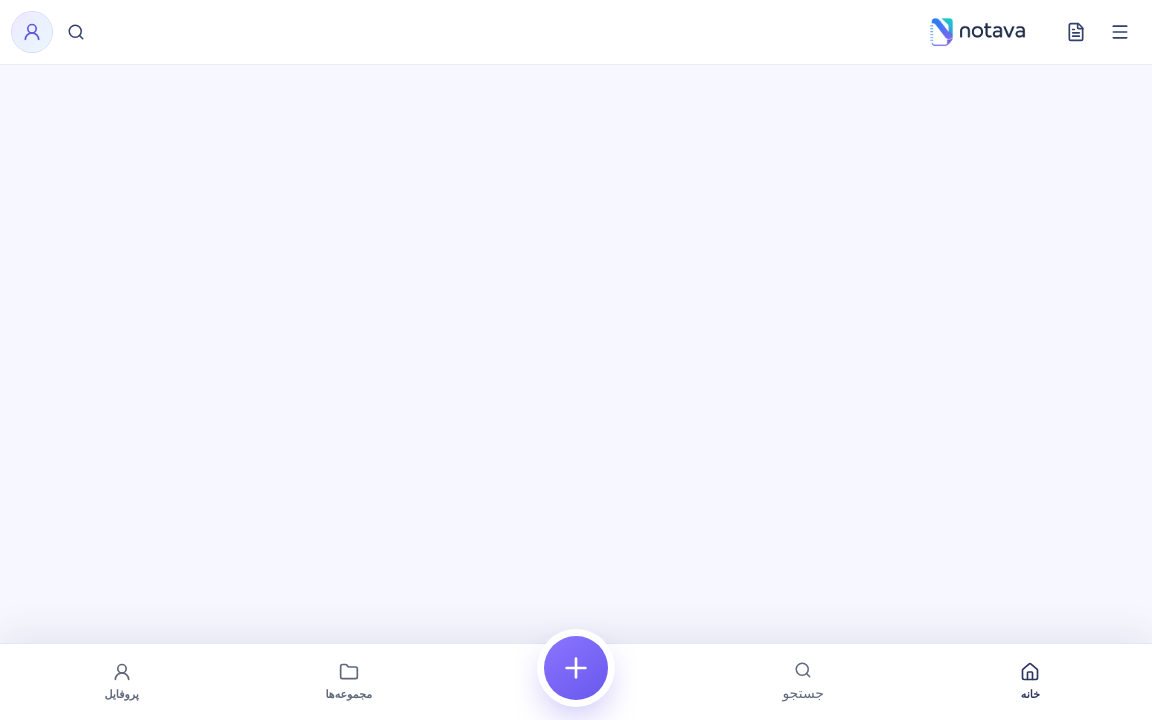
Test: MobileShell notebook workflows › shows a clear mobile action for creating a notebook
Click the button named "باز کردن مجموعه‌ها". click: coordinates (1120, 32)
box: x1=1100 y1=12 x2=1140 y2=52
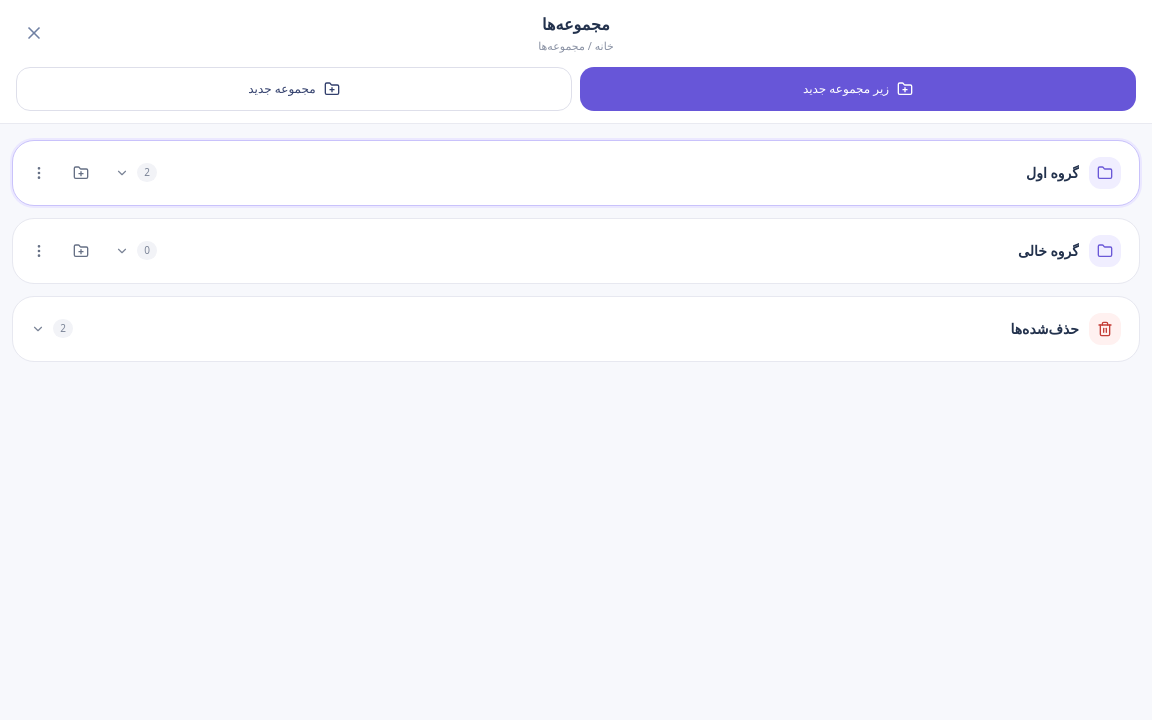
expect the button "زیر مجموعه جدید" is shown: met
Click the button "زیر مجموعه جدید". click: coordinates (858, 88)
box: x1=580 y1=66 x2=1136 y2=110
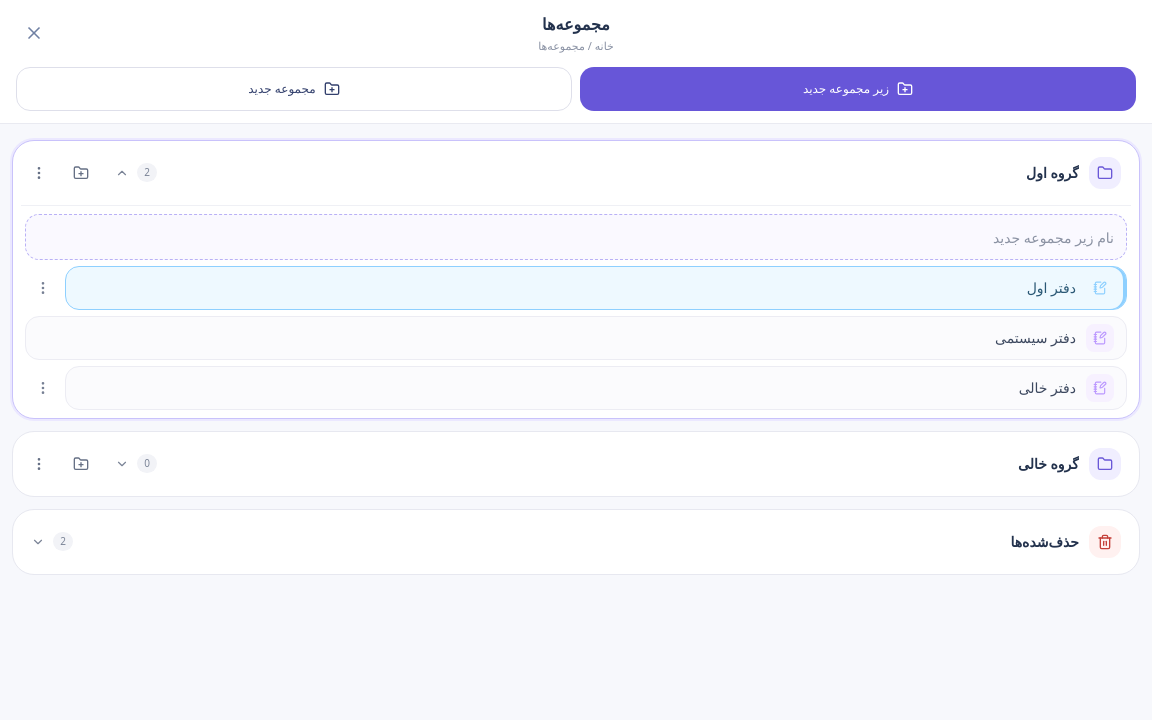
expect the field with placeholder "نام زیر مجموعه جدید" is shown: met, box x1=38 y1=228 x2=1114 y2=248
